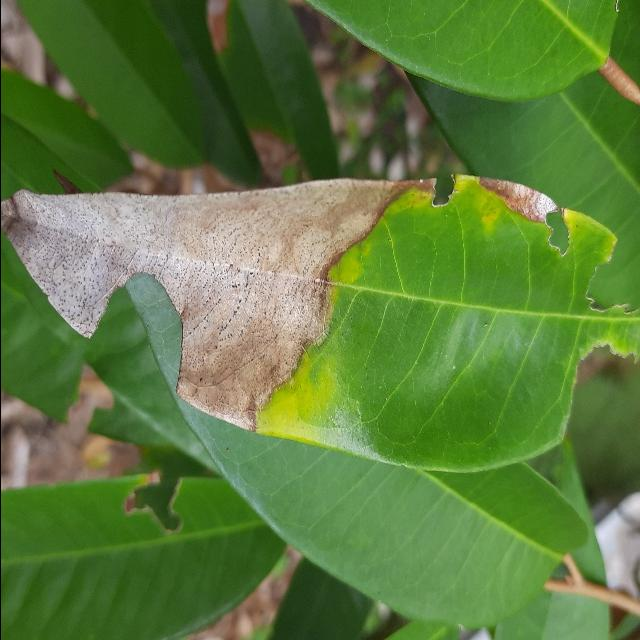Leaf Blight: (0, 169, 640, 483)
